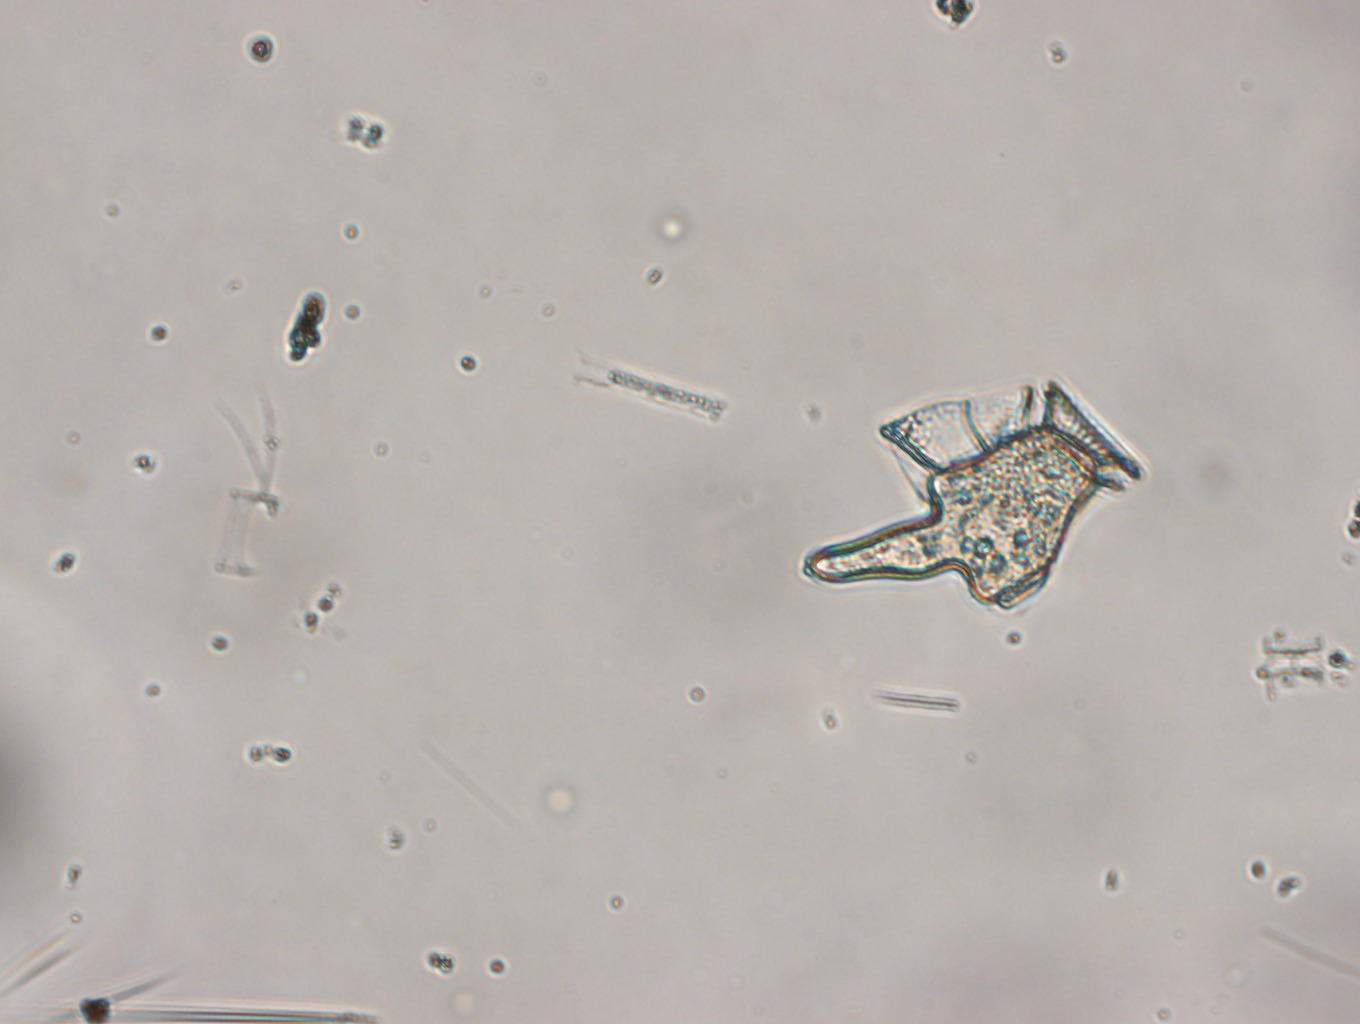dinophysis caudata: (790, 378, 1160, 609)
